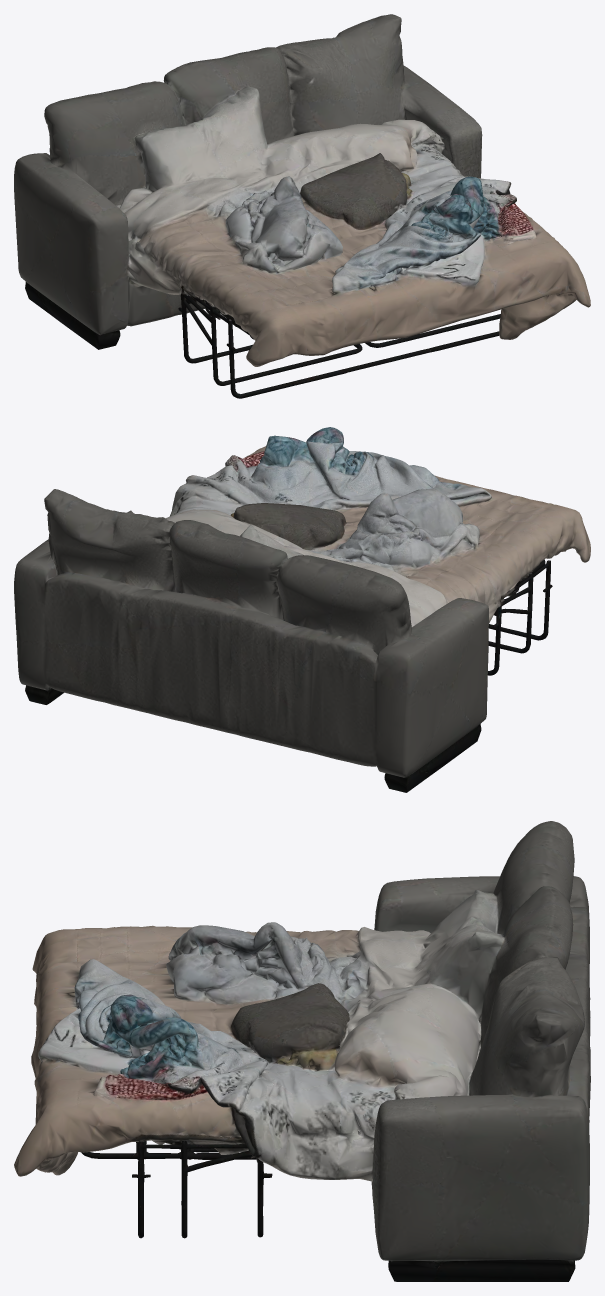
File: Meshy_AI_Unmade_Sofa_Bed_0829110246_texture.glb
3 renders of one model, top to bottom at view 1: azimuth 30°, elevation 25°; view 2: azimuth 150°, elevation 25°; view 3: azimuth 270°, elevation 25°, orthographic. The views are drawn at different scales.
Visible parts, largest first — view 1: mesh_node; view 2: mesh_node; view 3: mesh_node.
Boxes of the visible parts, bbox=[...] form: mesh_node: bbox=[14, 14, 590, 398]; mesh_node: bbox=[14, 427, 590, 792]; mesh_node: bbox=[14, 821, 590, 1281].
Size of the model in its own units: 1.64 by 0.7993 by 1.64.
Materials: 1 (1 with a texture image).
